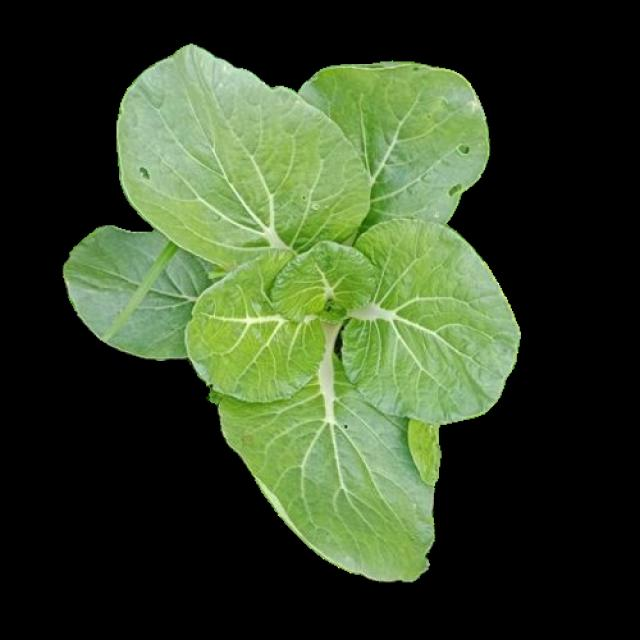mature: (64, 46, 518, 581)
unhealthy: (118, 46, 374, 269), (223, 356, 437, 580), (297, 66, 489, 222)
